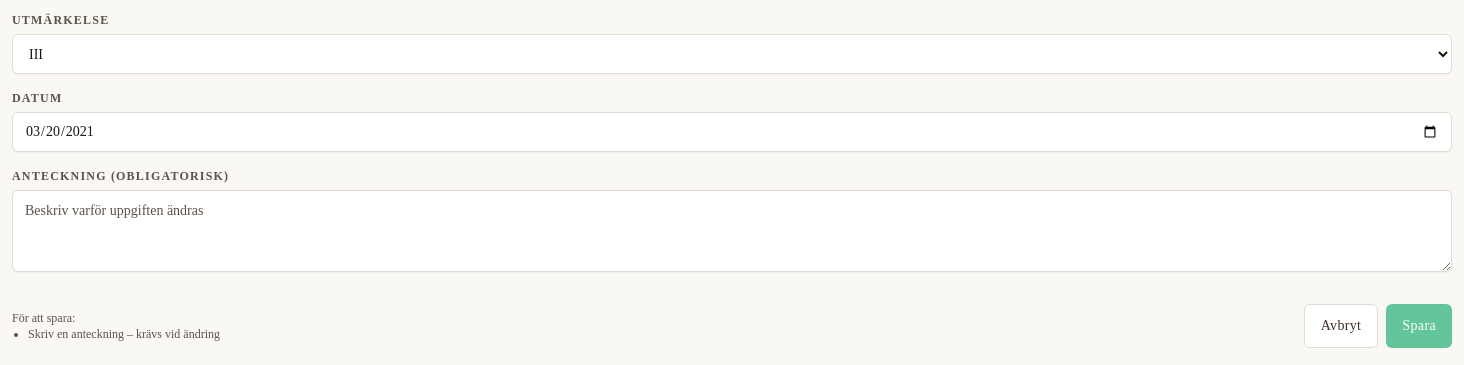
Scenario: AchievementEntryForm › requires a note when changing an achievement
The image size is (1464, 365).
Expected: the button "Spara" is disabled, [1386, 304, 1452, 348]
Type "Rättat datum" into the text box labelled "Anteckning (obligatorisk)" at (732, 231), box [12, 190, 1452, 272]
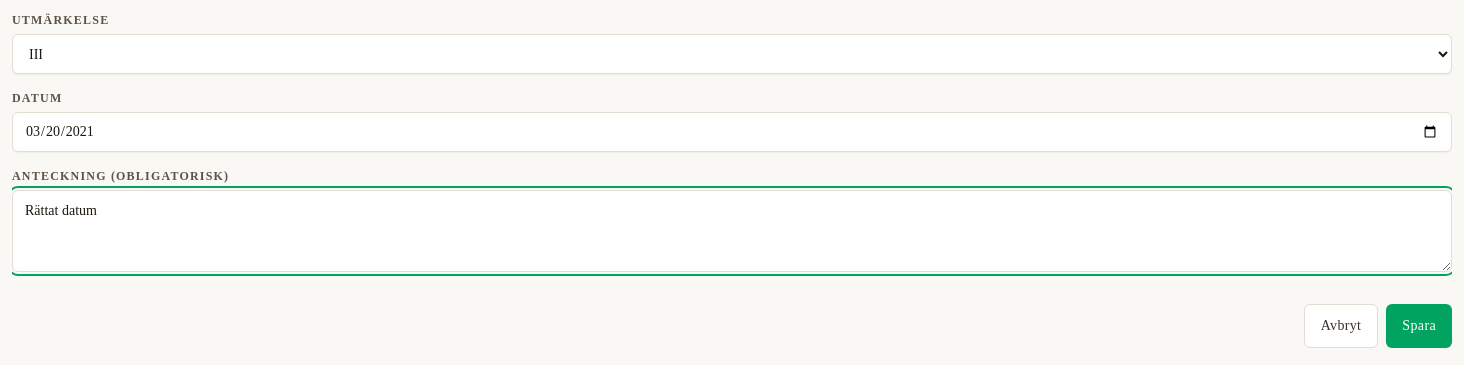
Expected: the button "Spara" is enabled, [1386, 304, 1452, 348]
